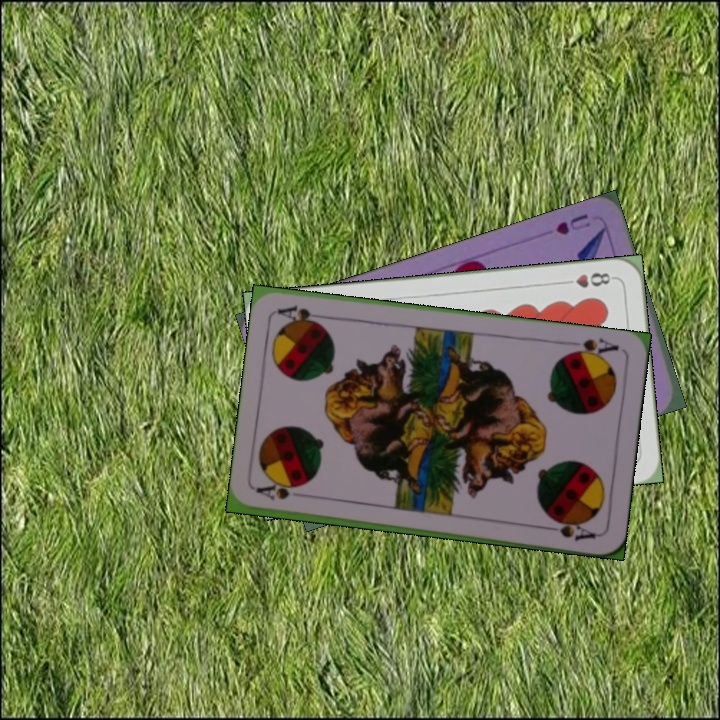H8: (558, 268, 617, 290)
HU: (552, 210, 593, 238)
SA: (562, 334, 622, 362), (253, 481, 298, 503)
